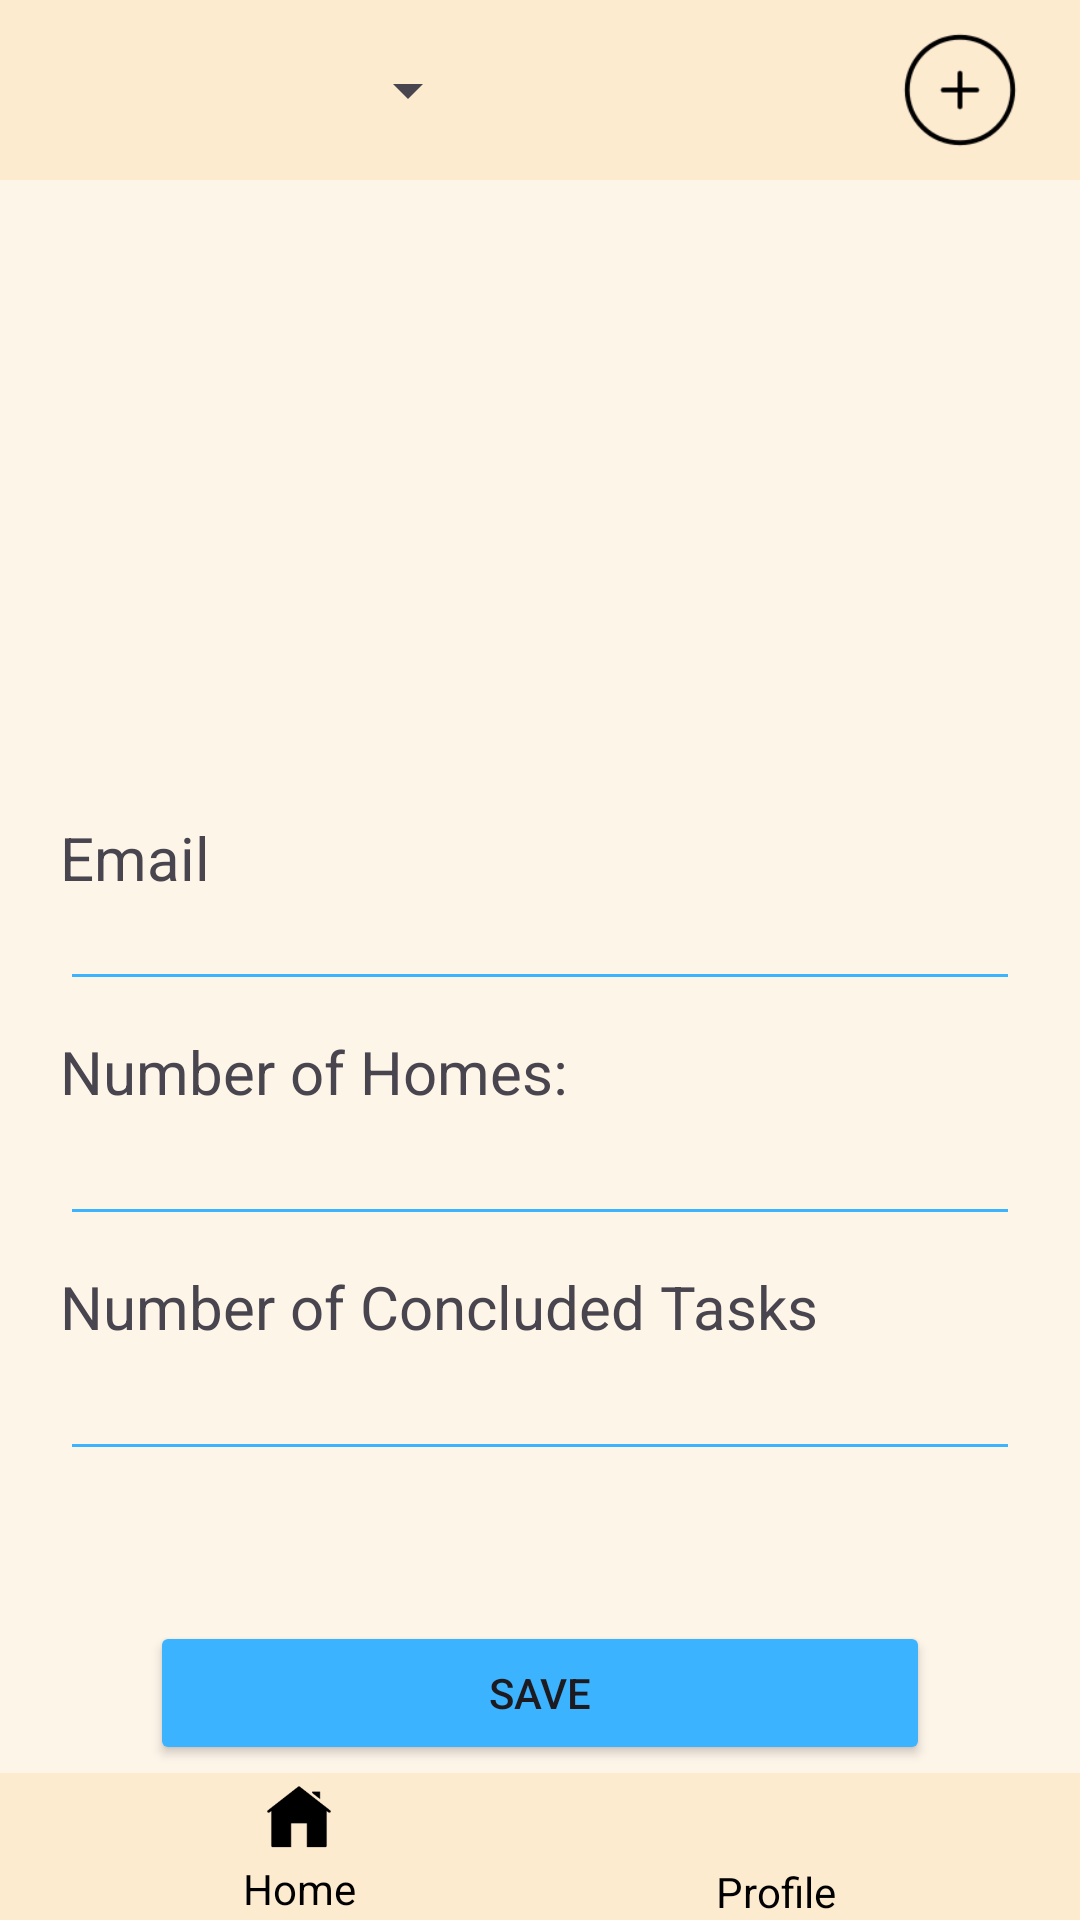

Icon bounding boxes for this 1080w x 1920h phone screenshot, format box=[x1, y1, x2, y2]:
add: box=[904, 34, 1016, 146]
